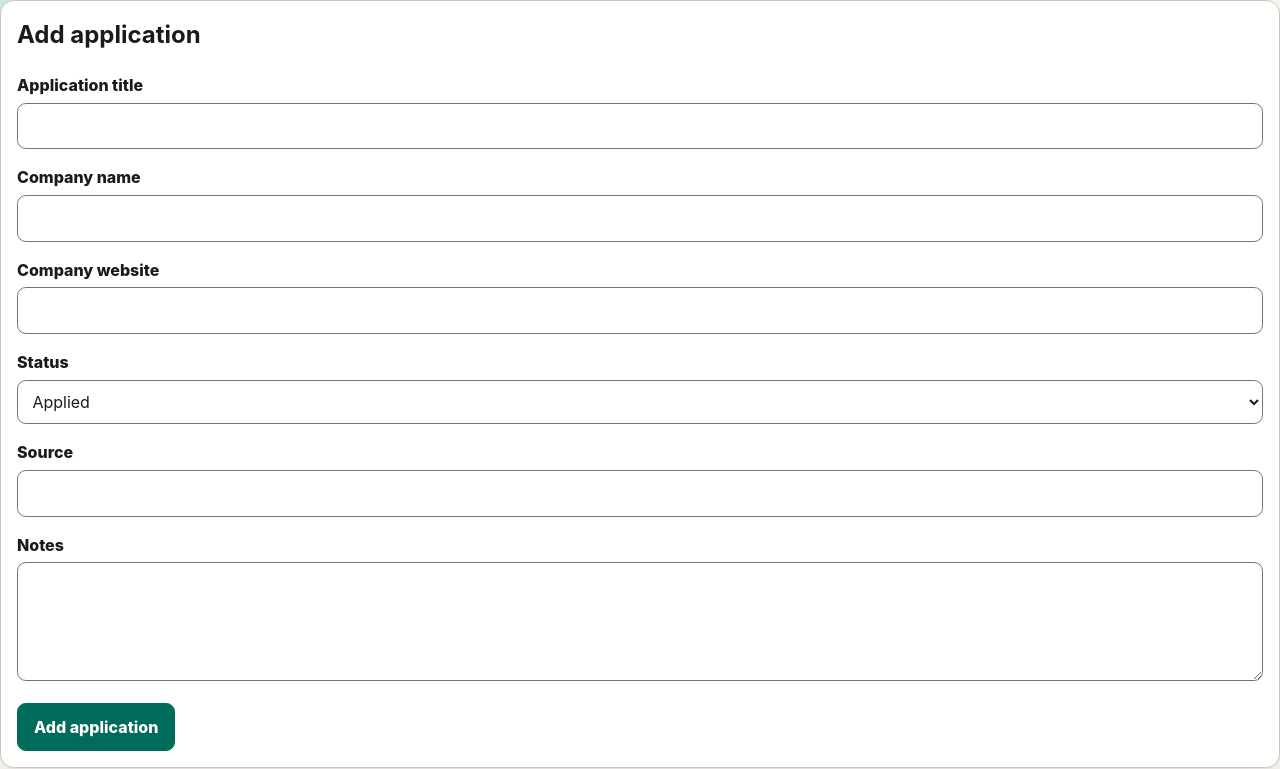
ApplicationForm › shows validation when the company is missing
In the field labelled "Application title": (640, 126) [17,102,1263,149], type "Backend Developer"
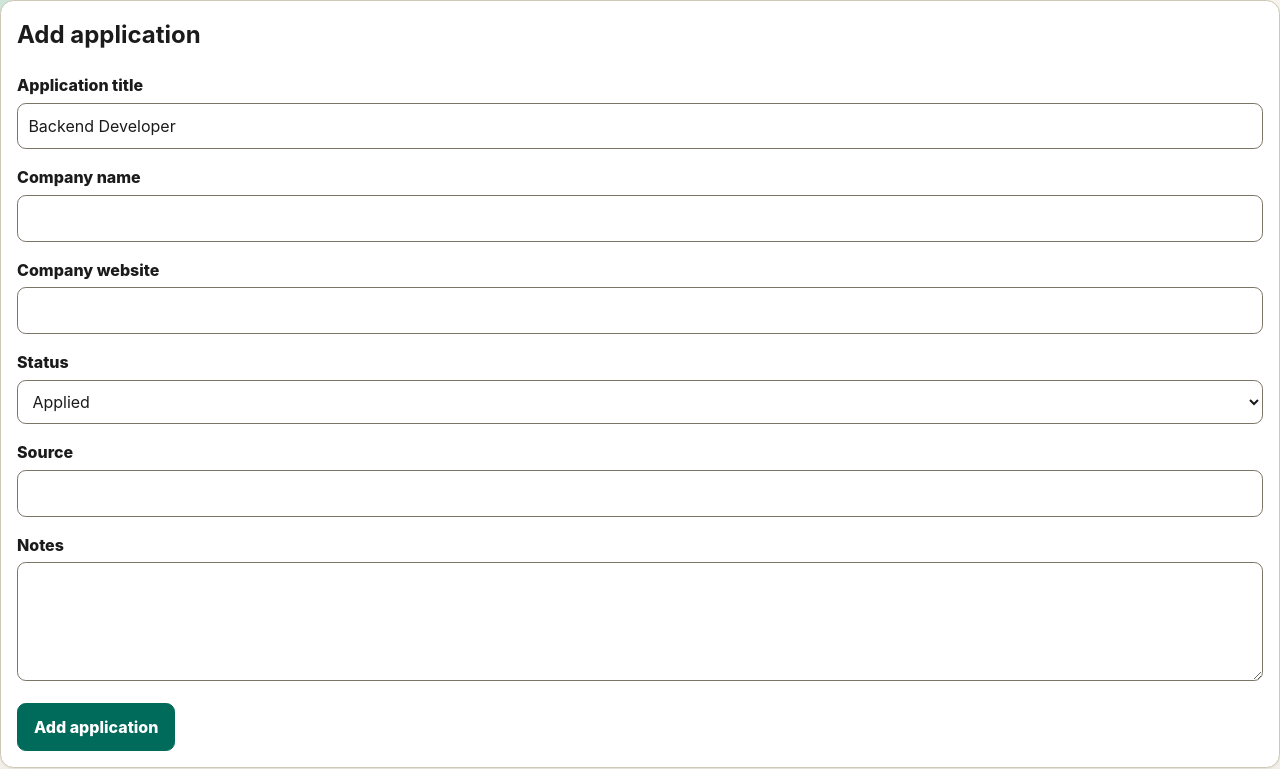
Click the button "Add application": (96, 727) [17,703,175,751]
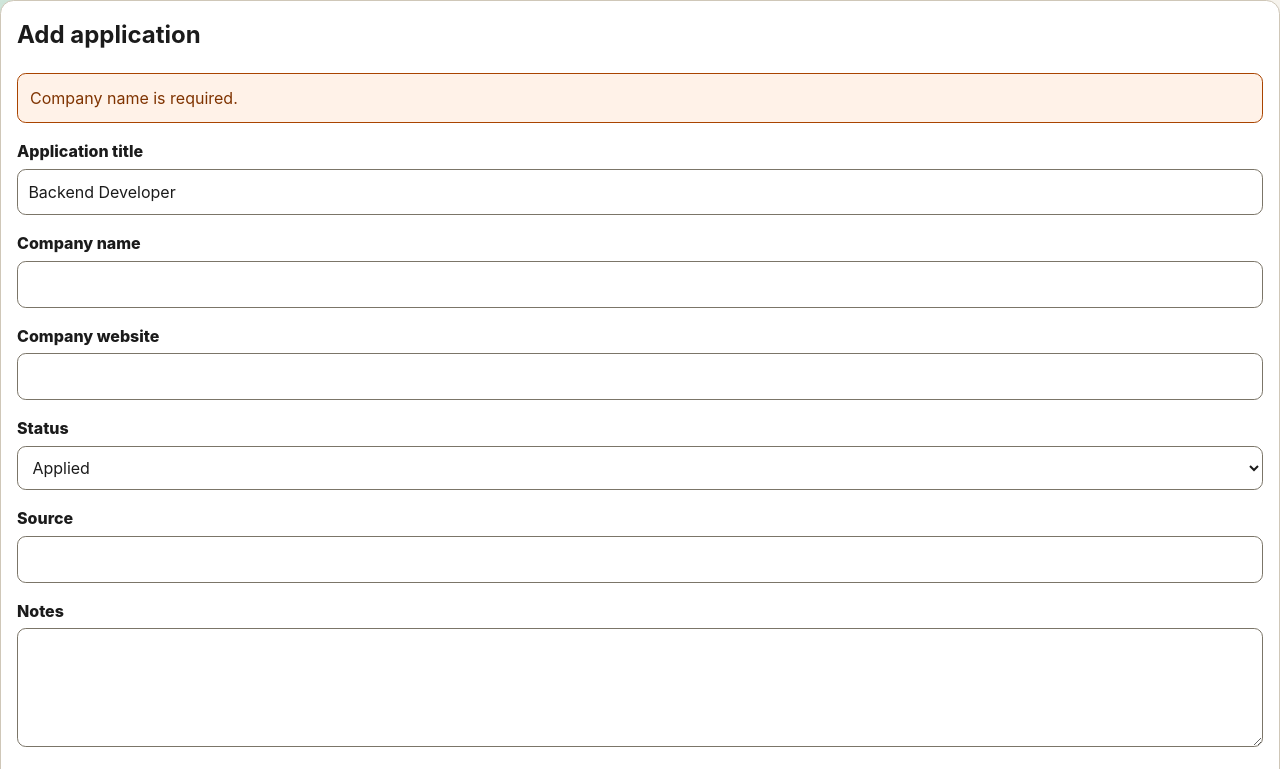
Expected: the message reads "Company name is required.", [30,88,238,108]
